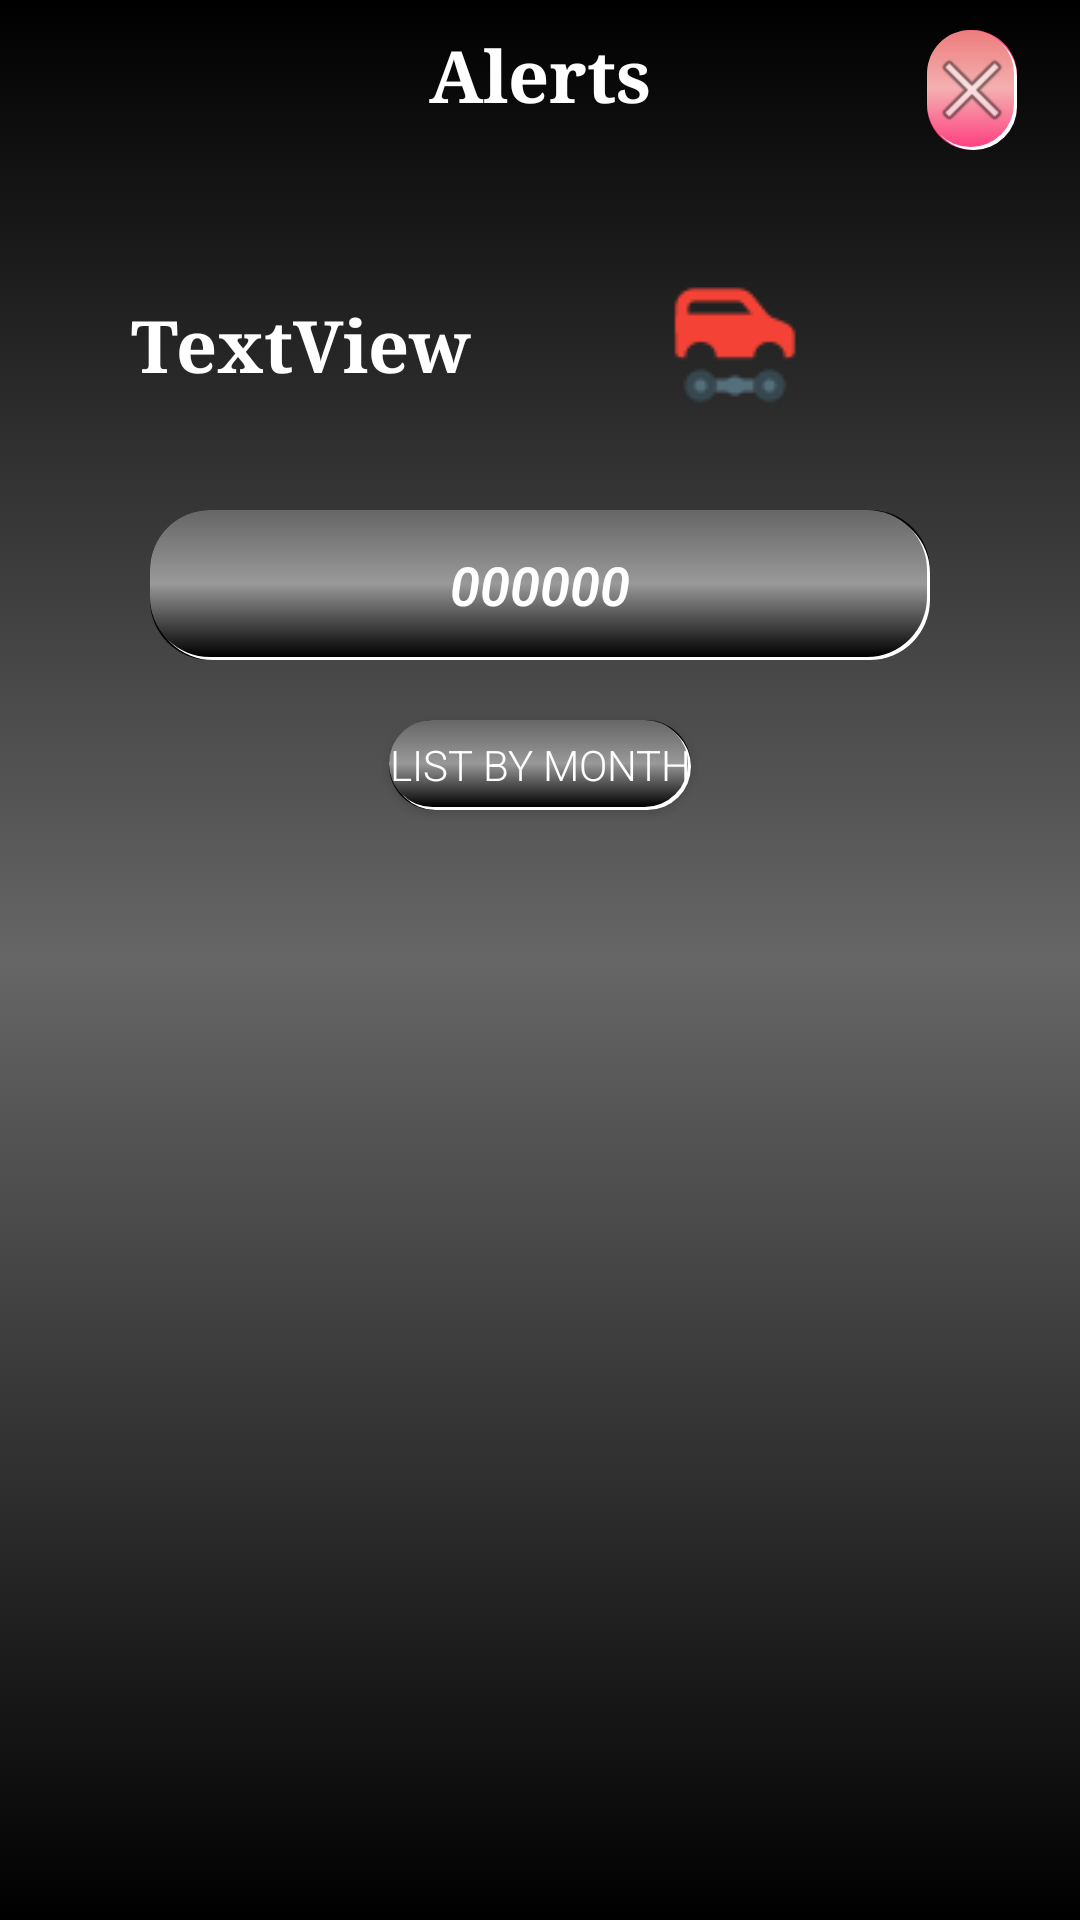

Icon bounding boxes for this 1080px x 1920px phone screenshot, format (x1, y1, x2, y2):
automotriz: (674, 287, 796, 401)
close clear cancel: (927, 30, 1017, 150)
